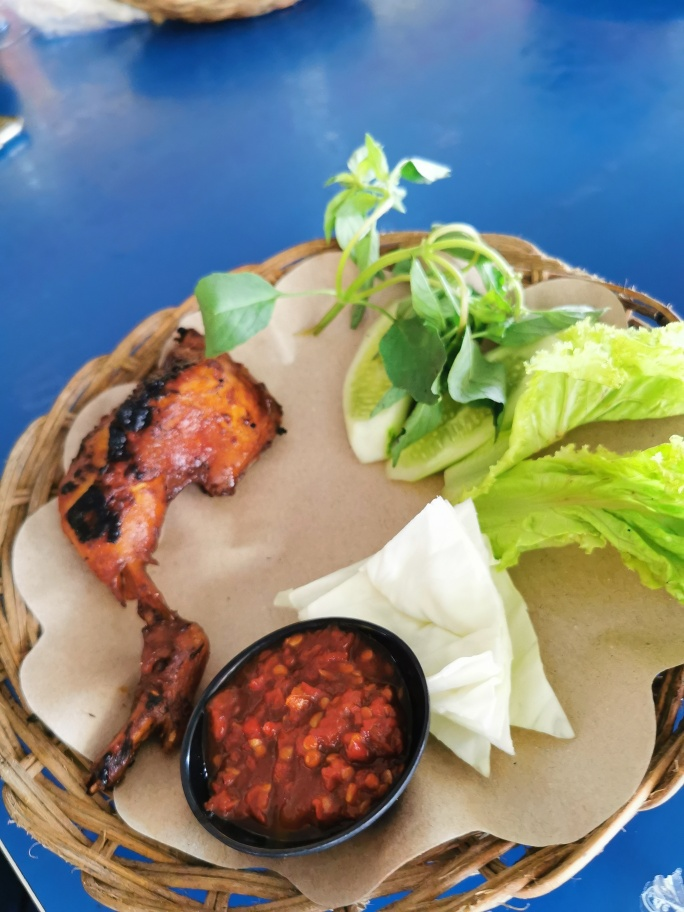ayam bakar: (44, 326, 283, 801)
